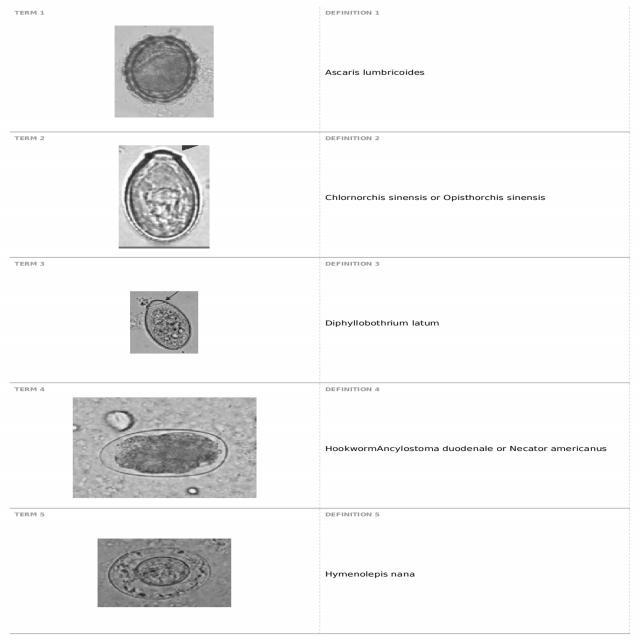Ancylostoma Spp: (99, 426, 234, 479)
Ascaris Lumbricoides: (118, 32, 206, 108)
Hymenolepis: (105, 547, 216, 603)
